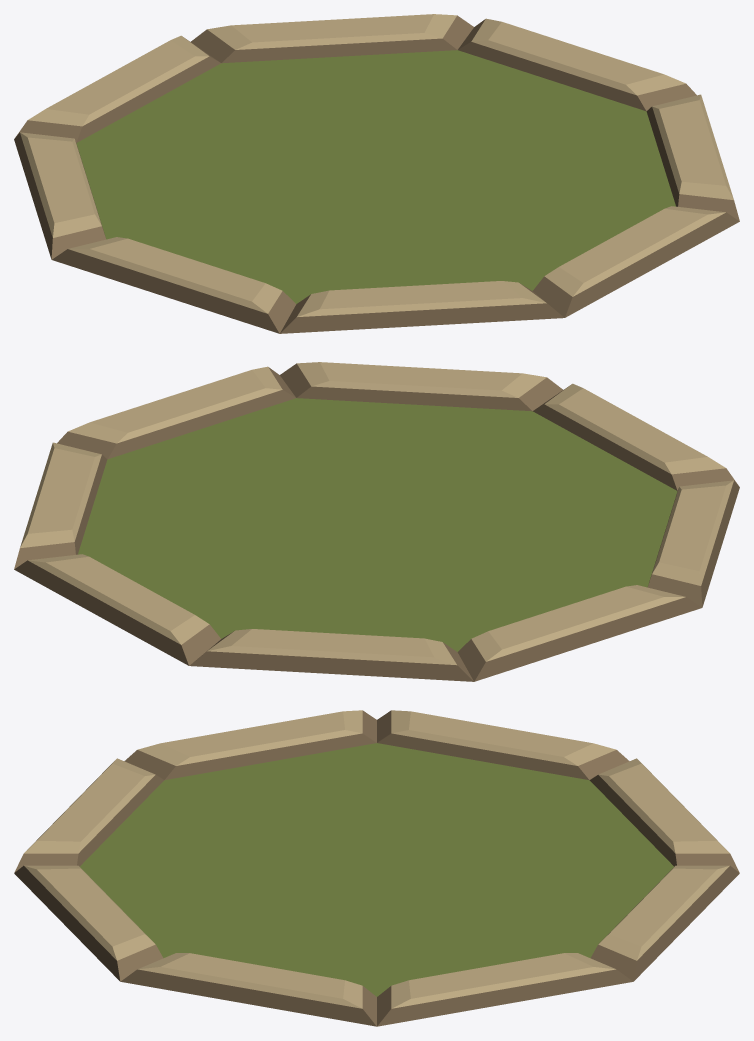
Rendered from GrassPatchSmall_01.glb.
3 renders of one model, top to bottom at view 1: azimuth 30°, elevation 25°; view 2: azimuth 150°, elevation 25°; view 3: azimuth 270°, elevation 25°, orthographic. The views are drawn at different scales.
Parts seen in each view (by area): view 1: GrassPatchSmall_01; view 2: GrassPatchSmall_01; view 3: GrassPatchSmall_01.
Boxes of the visible parts, x1,y1,x2,y2 form: GrassPatchSmall_01: (14, 14, 739, 333); GrassPatchSmall_01: (14, 362, 739, 681); GrassPatchSmall_01: (14, 710, 739, 1026).
Size of the model in its own units: 2 by 0.0553 by 2.
Materials: 1 (1 with a texture image).
